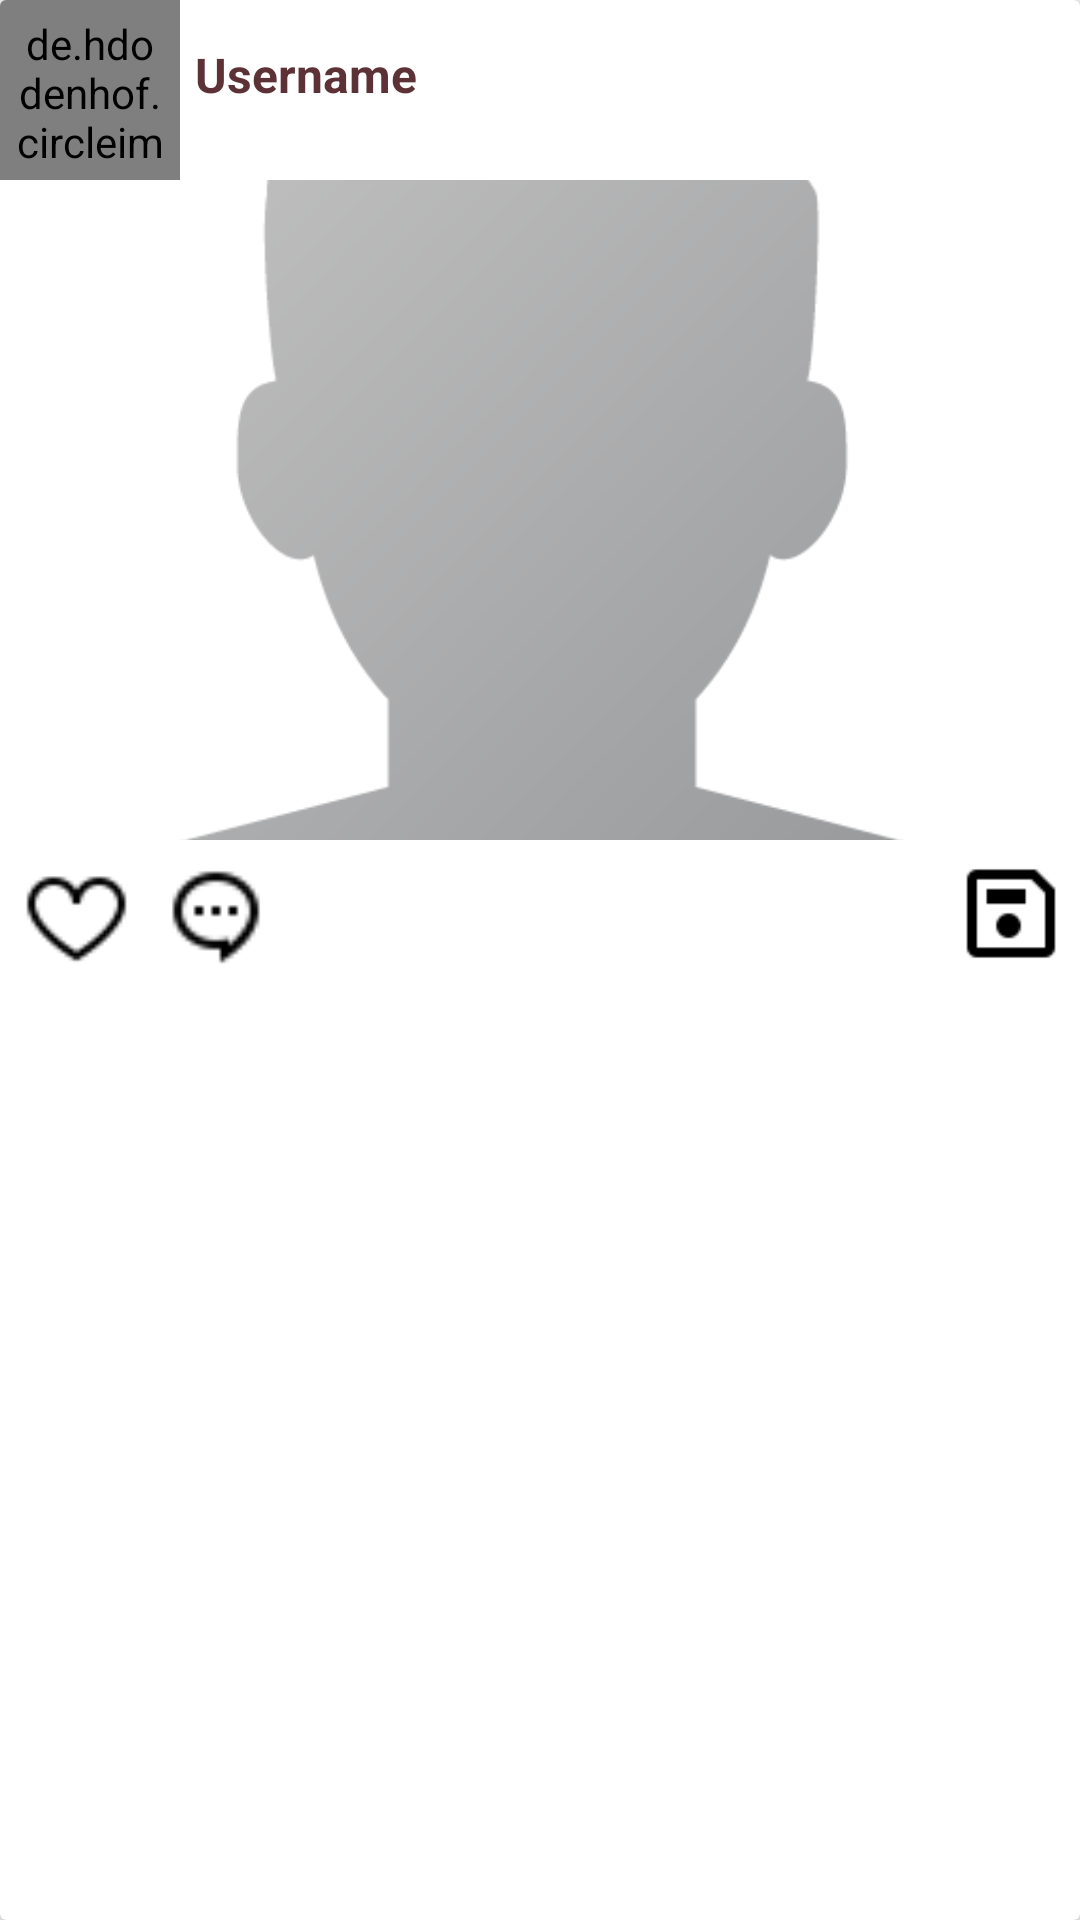

Point at icon controls on the screen. Image size 1080 x 1920, points as (x,y).
comment: (216,917)
heart not clicked: (76,919)
save unfilled: (1011,913)
